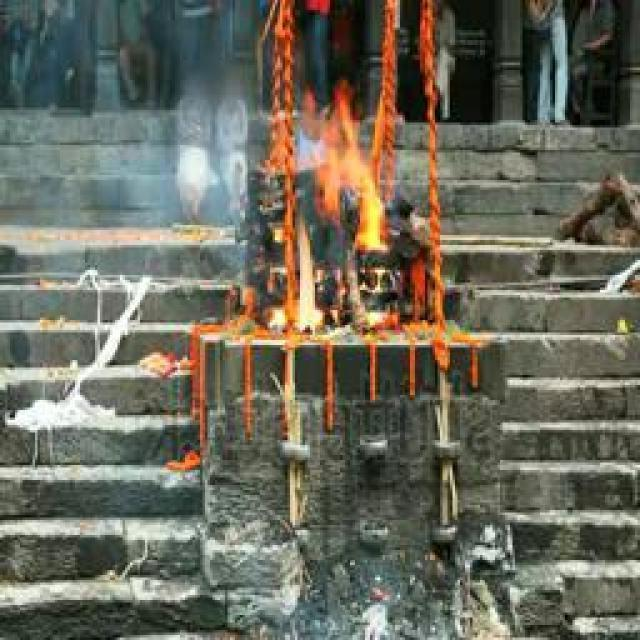Fire: (281, 86, 383, 334)
